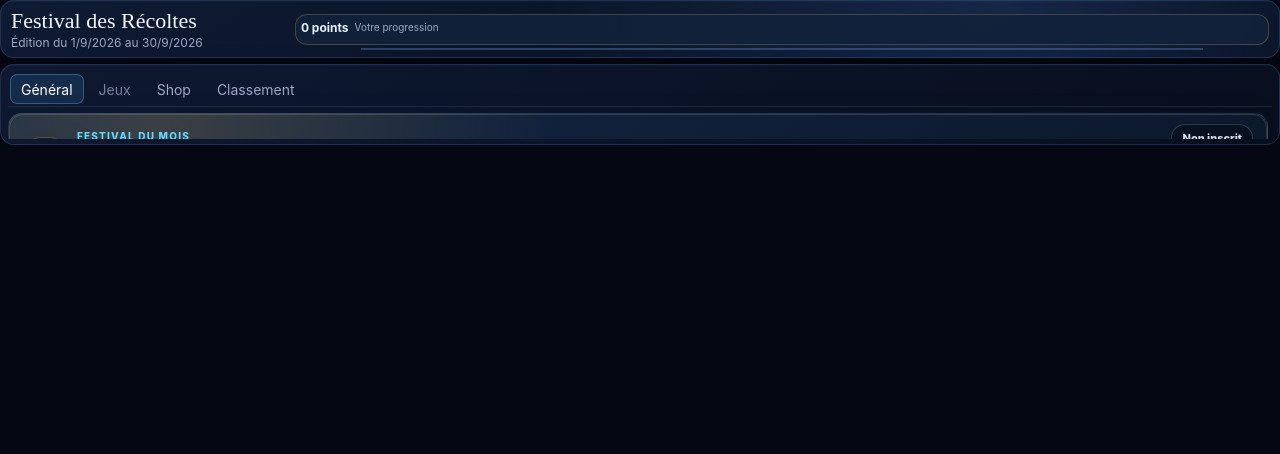
Test: EventScreen presentation › opens Shop and Classement publicly without joining or refreshing the full Event for ranking
What coordinates should you click on to do the following:
click the button "Shop"
I would click on:
 (174, 89)
Its box is [146,74,202,104].
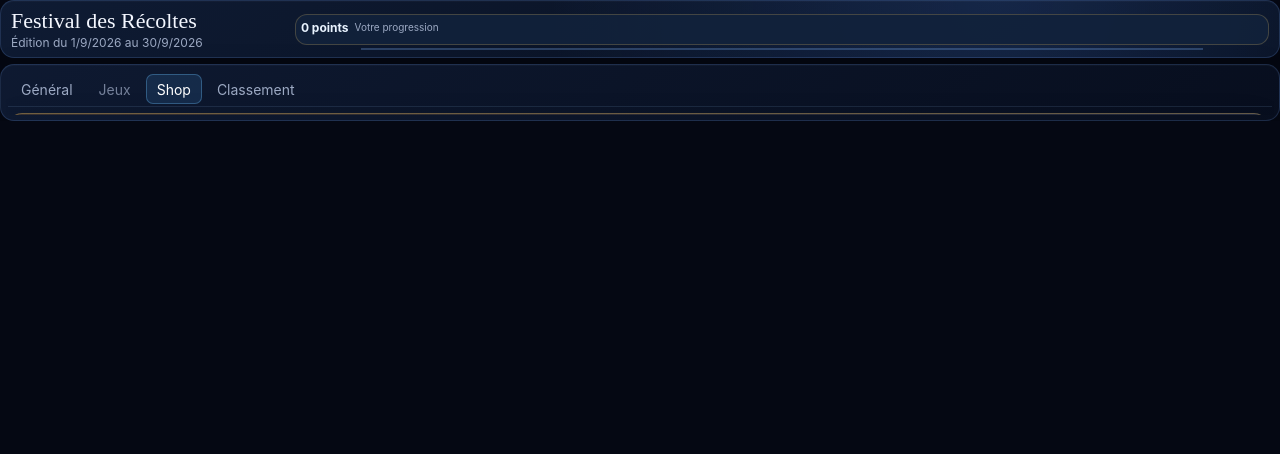
What coordinates should you click on to do the following:
click the button "Classement"
I would click on:
 (256, 89)
Its box is [206,74,306,104].
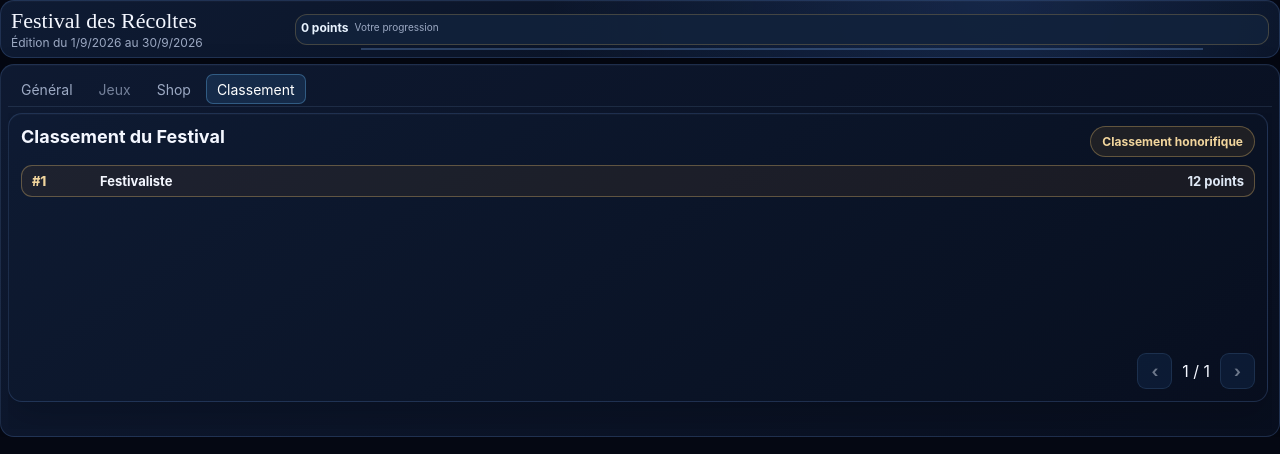
Expected: the list with class "event-ranking-list" shows "Festivaliste", [100,173,172,189]
